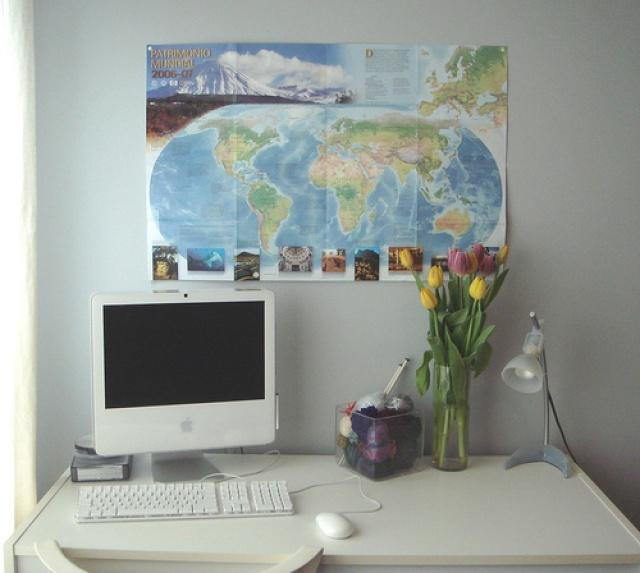AIO PC-Monitor-TV: (90, 289, 276, 481)
Meja: (0, 449, 639, 572)
